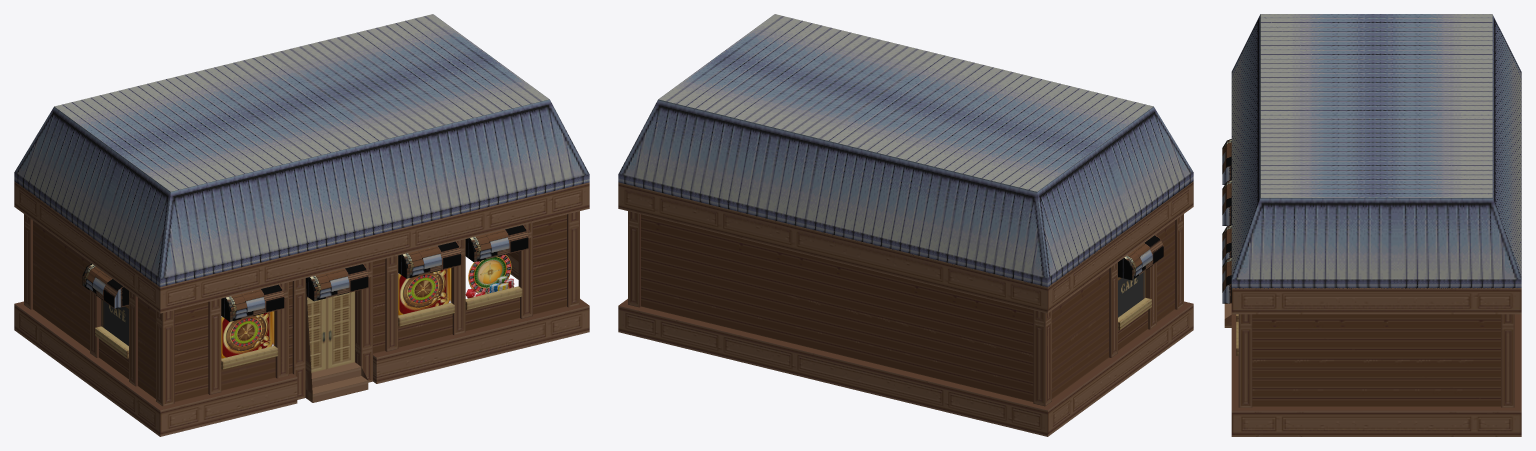
The model's file is roulettehouse.fbx.
3 views of the same model, side by side, from view 1: azimuth 30°, elevation 25°; view 2: azimuth 150°, elevation 25°; view 3: azimuth 270°, elevation 25° (orthographic).
Visible parts, largest first — view 1: Cafe:cafe; view 2: Cafe:cafe; view 3: Cafe:cafe.
Part boxes in pixels (bbox=[...]): Cafe:cafe: bbox=[14, 14, 589, 436]; Cafe:cafe: bbox=[618, 14, 1193, 436]; Cafe:cafe: bbox=[1222, 14, 1521, 436].
Size of the model in its own units: 121 by 60.28 by 72.02.
